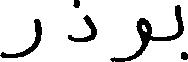X: (0, 14, 41, 61), (112, 13, 150, 61), (68, 0, 95, 46), (175, 0, 187, 61)
